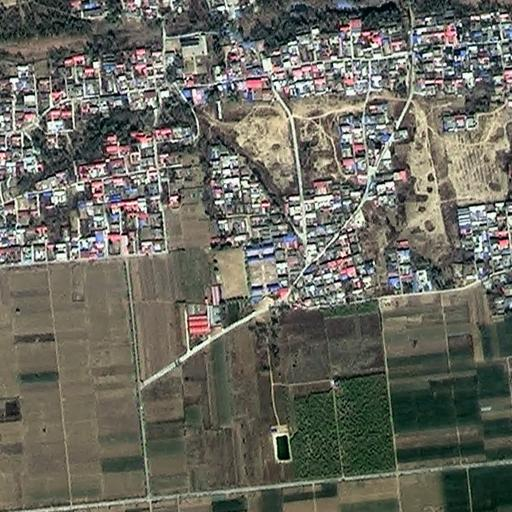school: (211, 239, 281, 304)
